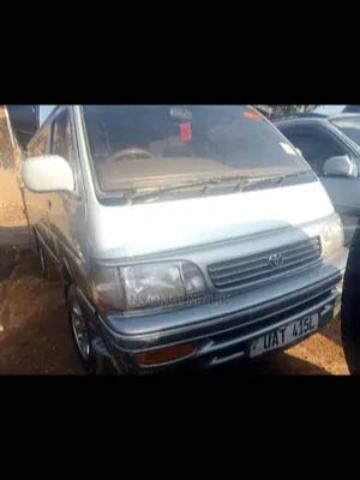van: (17, 105, 336, 369)
